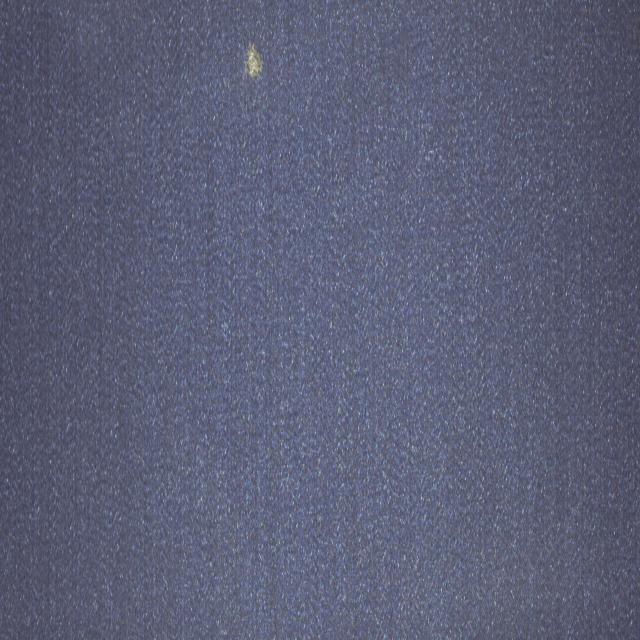Stain: (246, 43, 263, 78)
